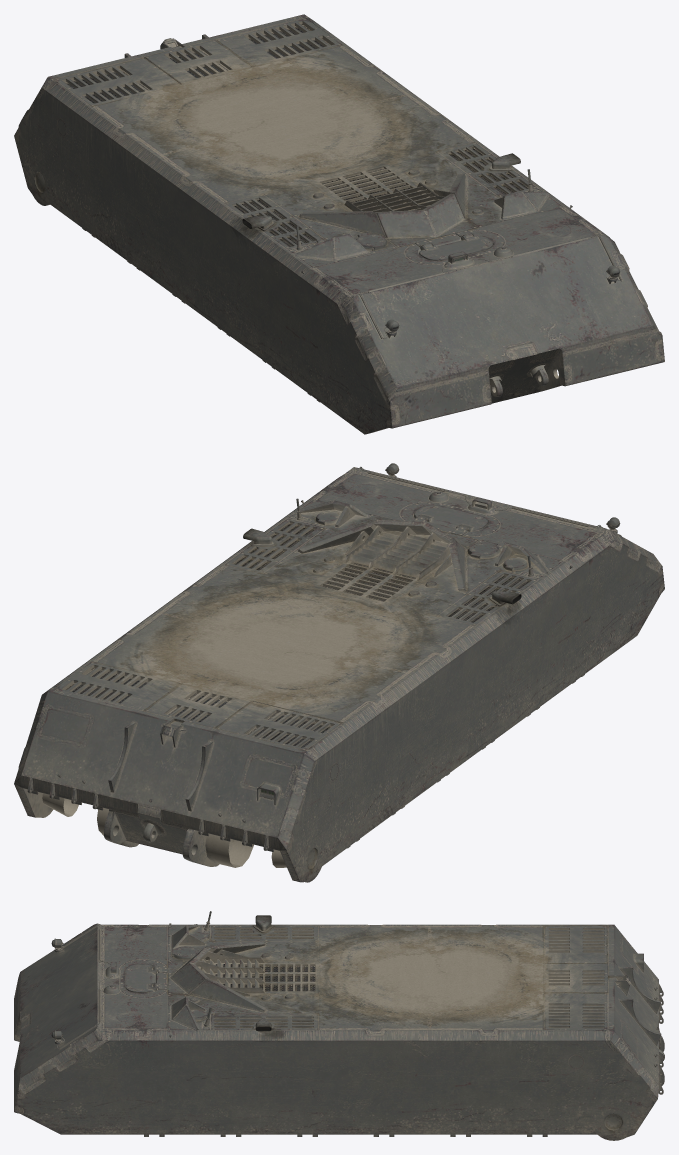
Rendered from hull.obj.
3 views of the same model, one above another, from view 1: azimuth 30°, elevation 25°; view 2: azimuth 150°, elevation 25°; view 3: azimuth 270°, elevation 25° (orthographic). The views are drawn at different scales.
Visible parts, largest first — view 1: hull; view 2: hull; view 3: hull.
Boxes of the visible parts, <box> form: hull: <box>14,14,664,434</box>; hull: <box>14,463,664,882</box>; hull: <box>14,911,664,1140</box>.
Bounding box in the file's own units: 3.72 × 2.01 × 9.04.
1 material, 1 textured.
